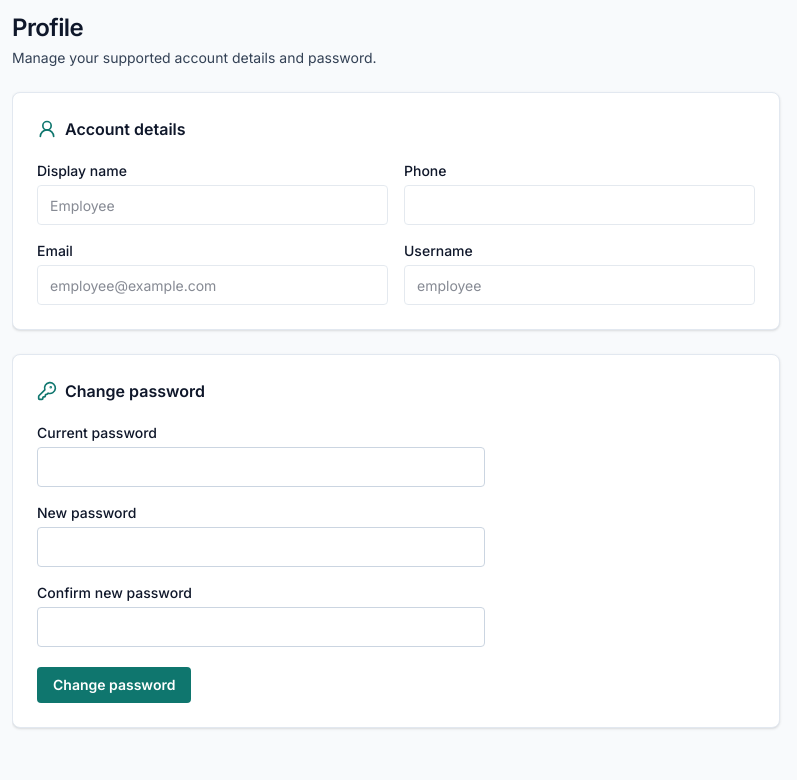
it: ProfilePage › shows password change to users without platform profile capabilities
The image size is (797, 780).
Type "old-password" into the password field labelled "Current password" at [261, 467], box [37,447,485,487]
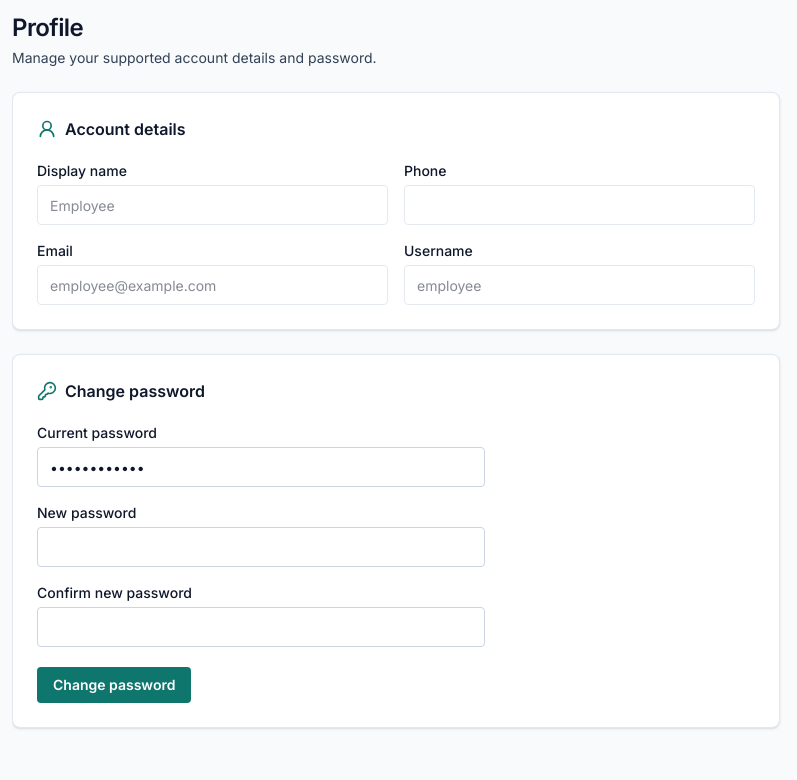
Type "new-password" into the password field labelled "New password" at [261, 547], box [37,527,485,567]
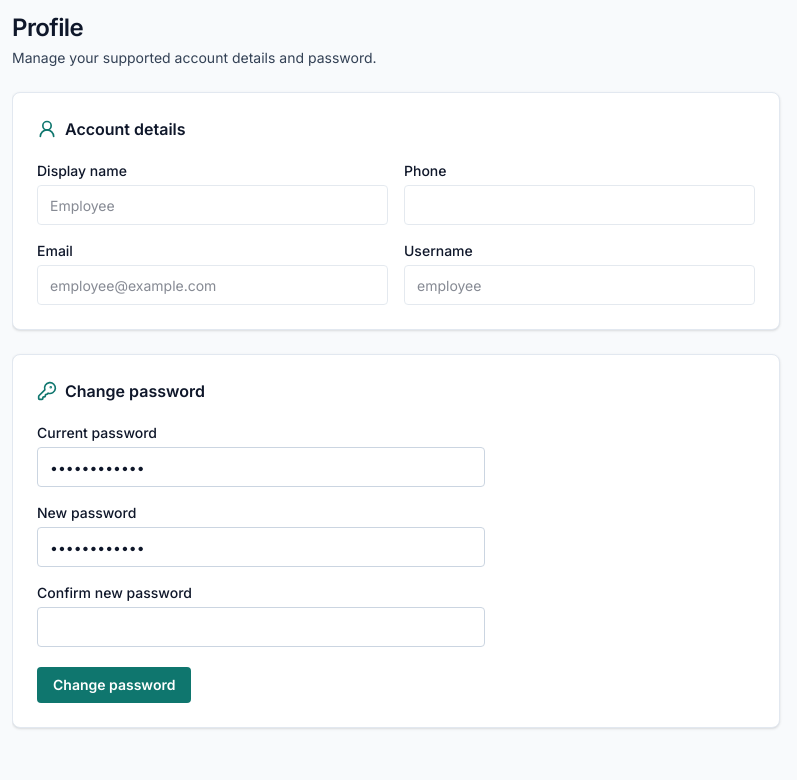
Type "new-password" into the password field labelled "Confirm new password" at [261, 627], box [37,607,485,647]
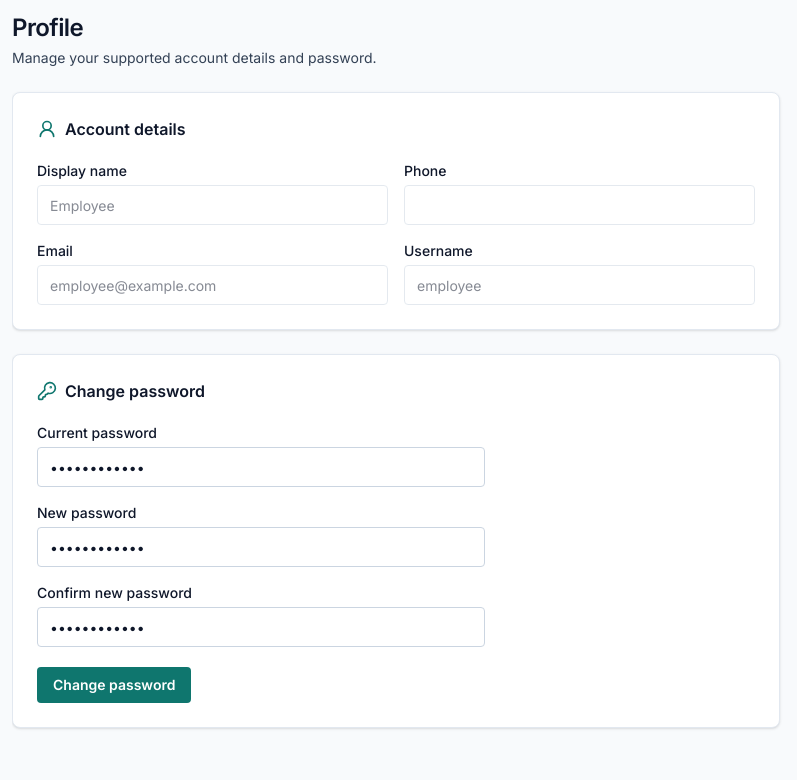
Click the button "Change password" at [114, 685], box [37,667,191,703]
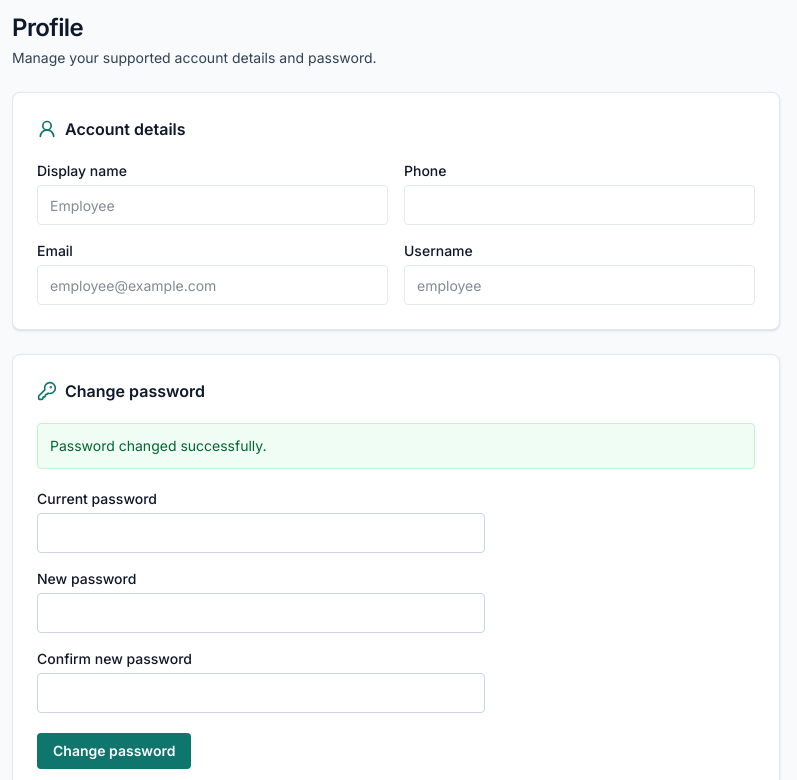
Check: the text "Password changed successfully." is shown, box [37,423,755,469]
